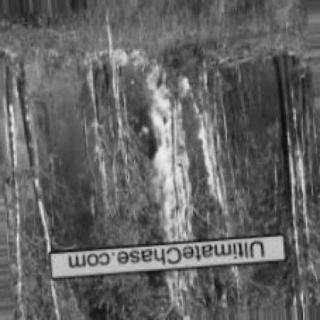Fire: (137, 54, 240, 316), (81, 46, 159, 80)
